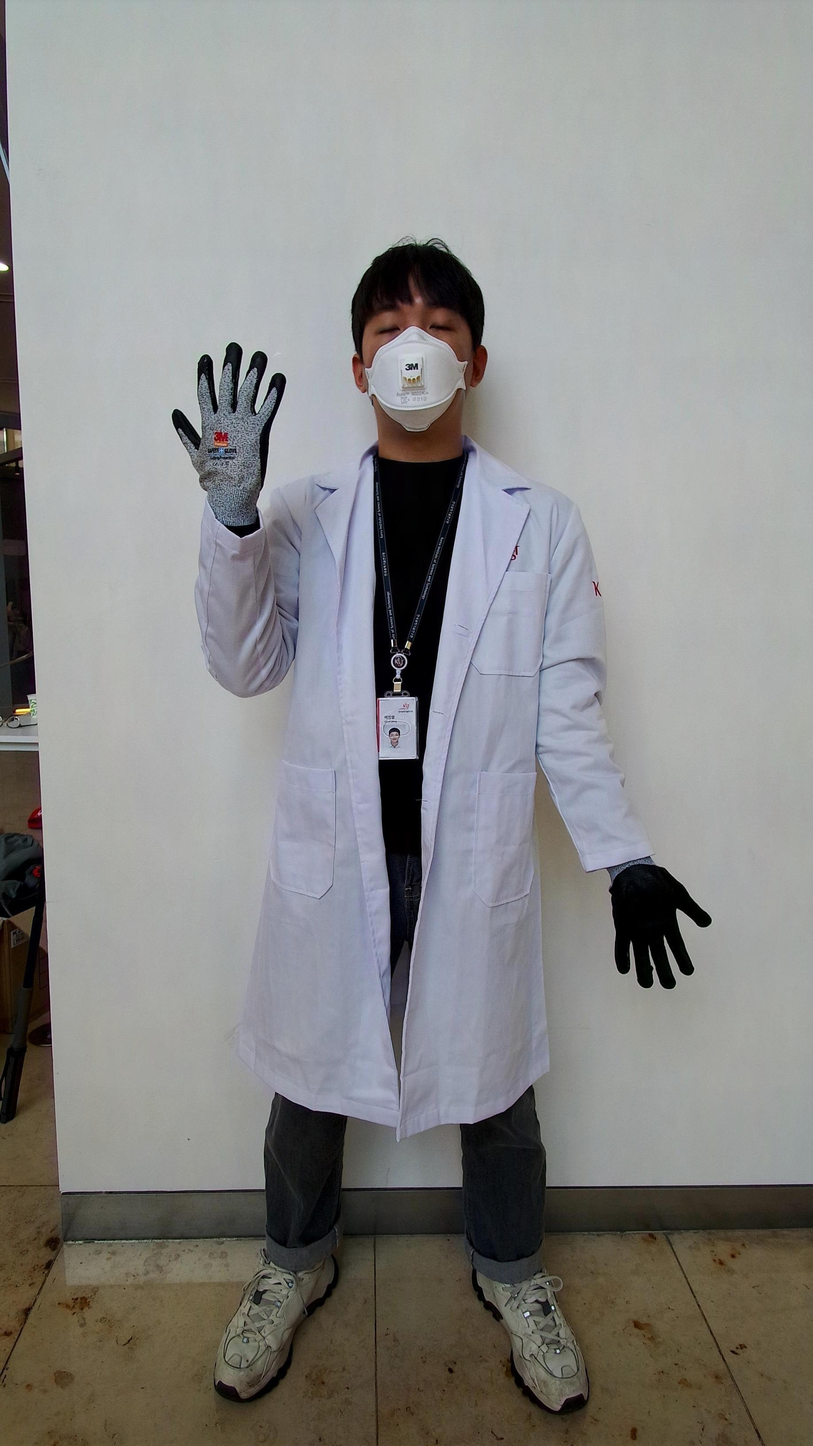Lab_coat: (194, 435, 656, 1142)
